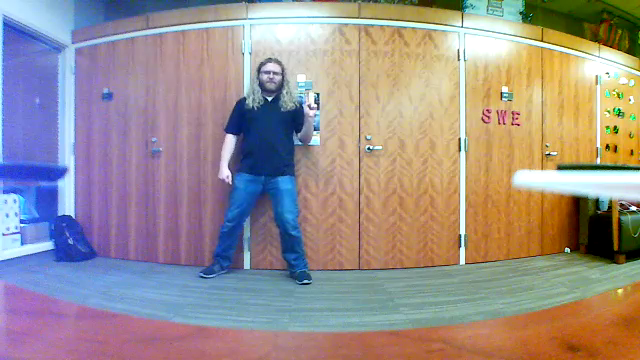up: (300, 87, 320, 120)
